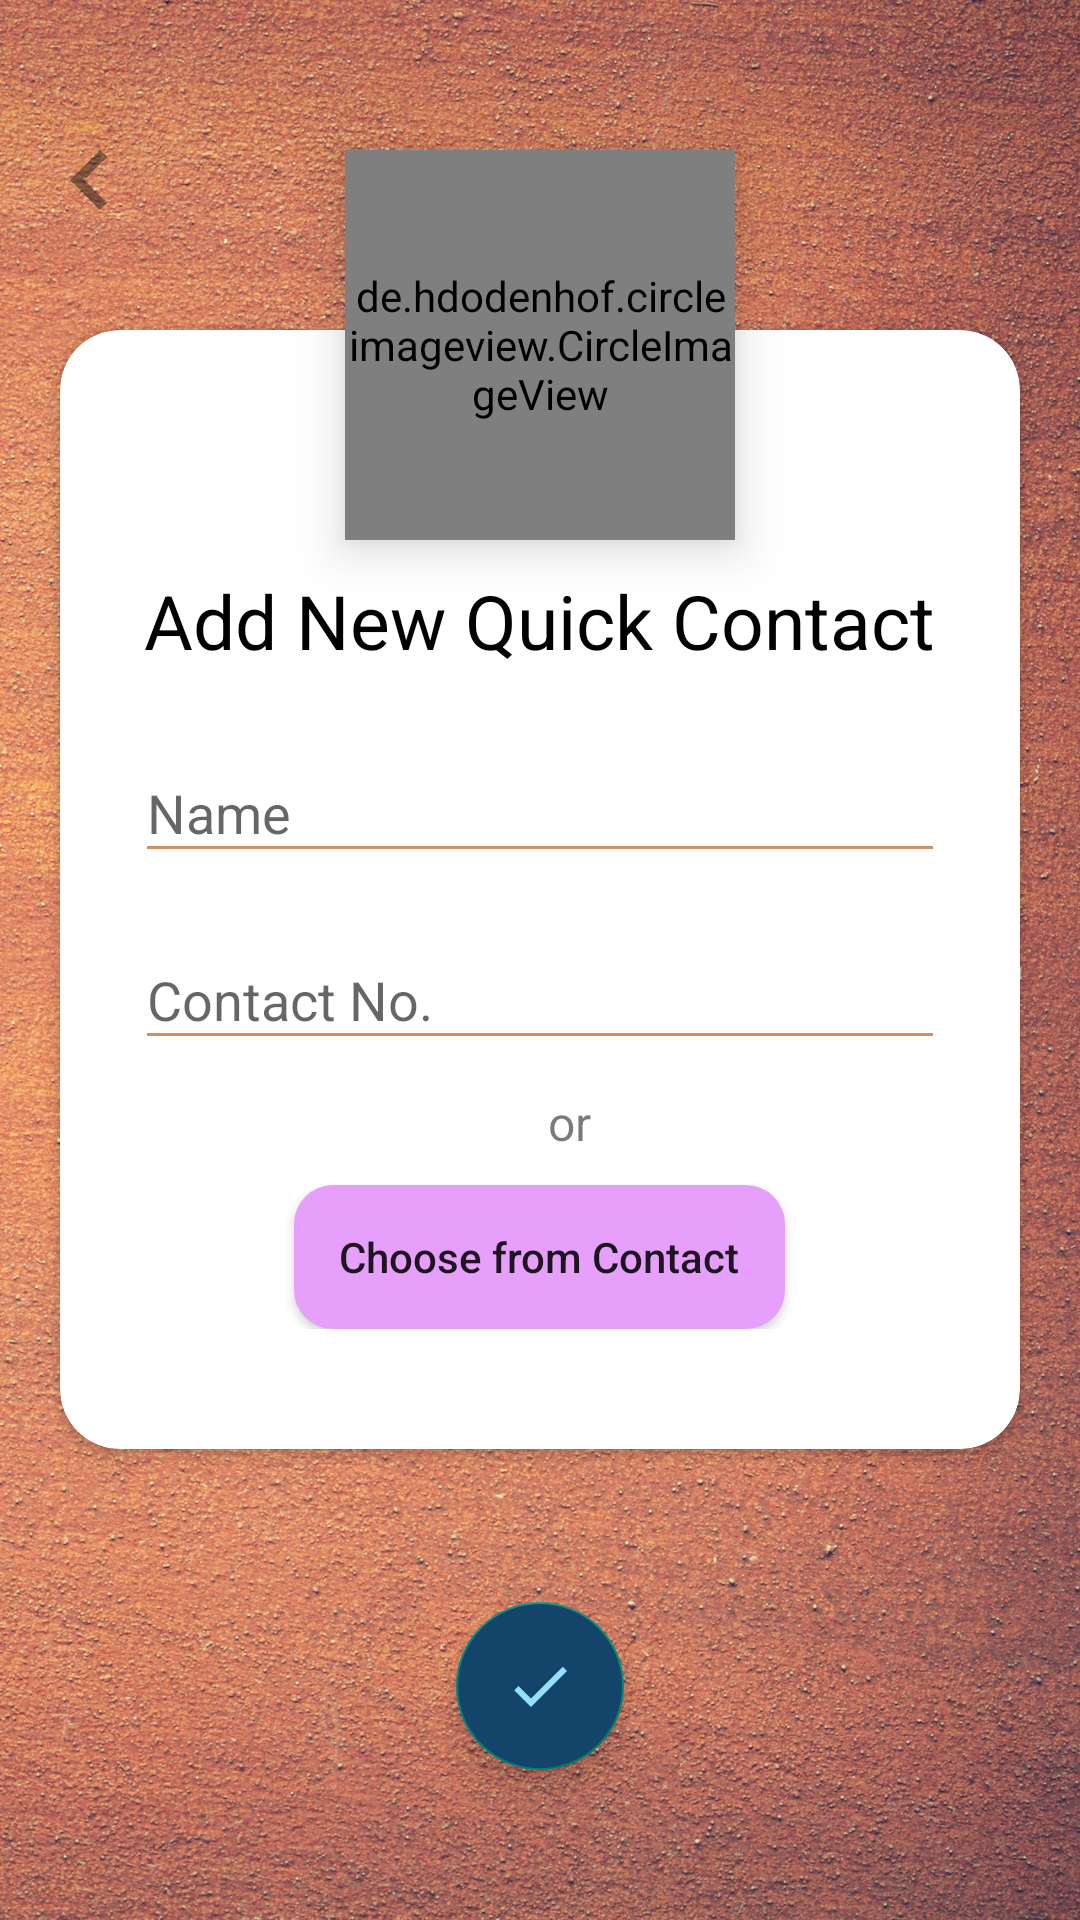

Named icons in this screenshot (1080w x 1920h) and their centers, (x=x, y=y):
add save check: (x=540, y=1686)
